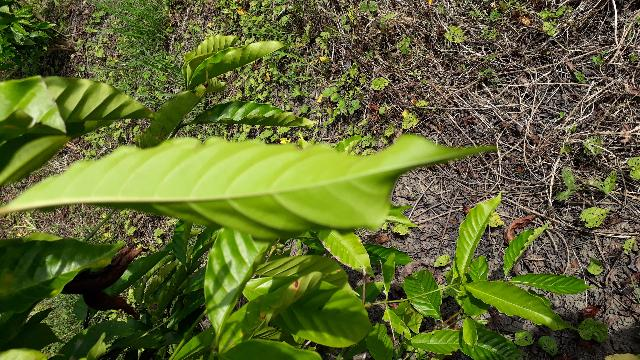healthy: (7, 133, 495, 242)
